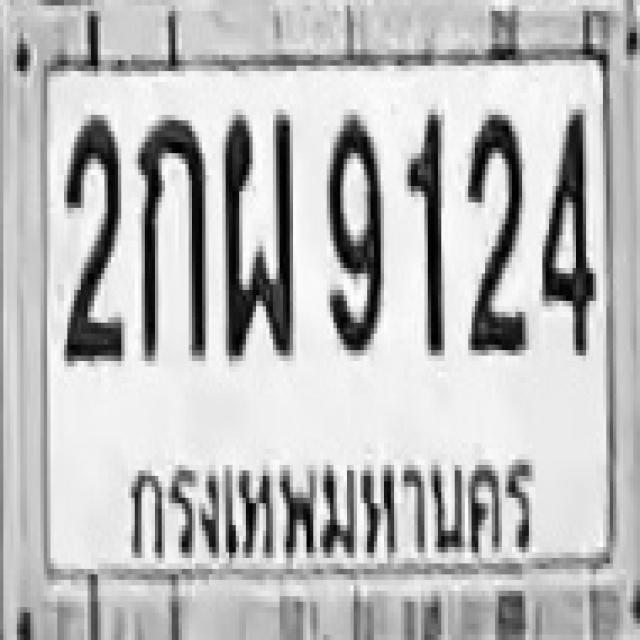1: (404, 110, 445, 356)
10GorGai: (137, 115, 207, 361)
2: (62, 112, 123, 364), (465, 112, 525, 353)
37PhorPhueng: (220, 110, 294, 356)
4: (539, 104, 596, 355)
9: (322, 112, 382, 353)
Bangkok: (120, 439, 544, 565)
